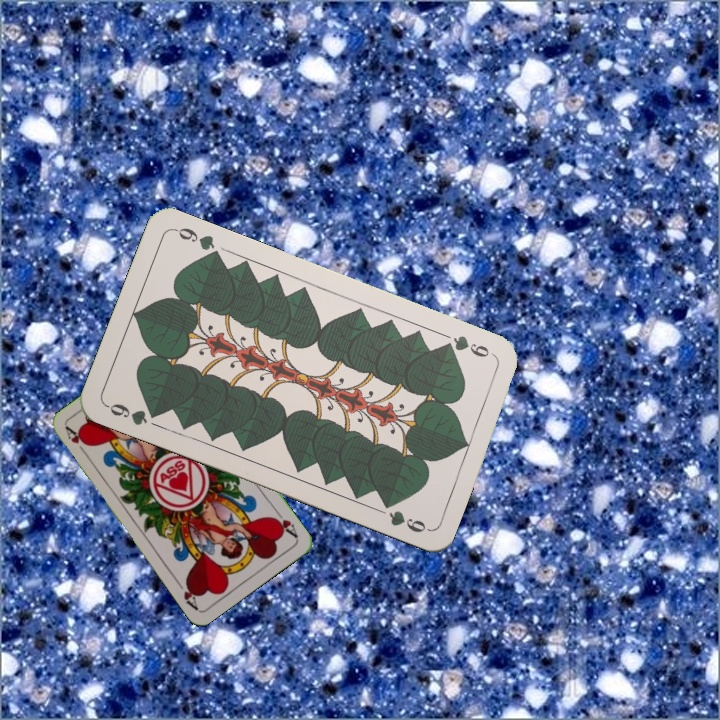G9: (102, 399, 163, 428), (438, 331, 497, 360)
HA: (268, 506, 300, 541), (62, 423, 92, 459)
